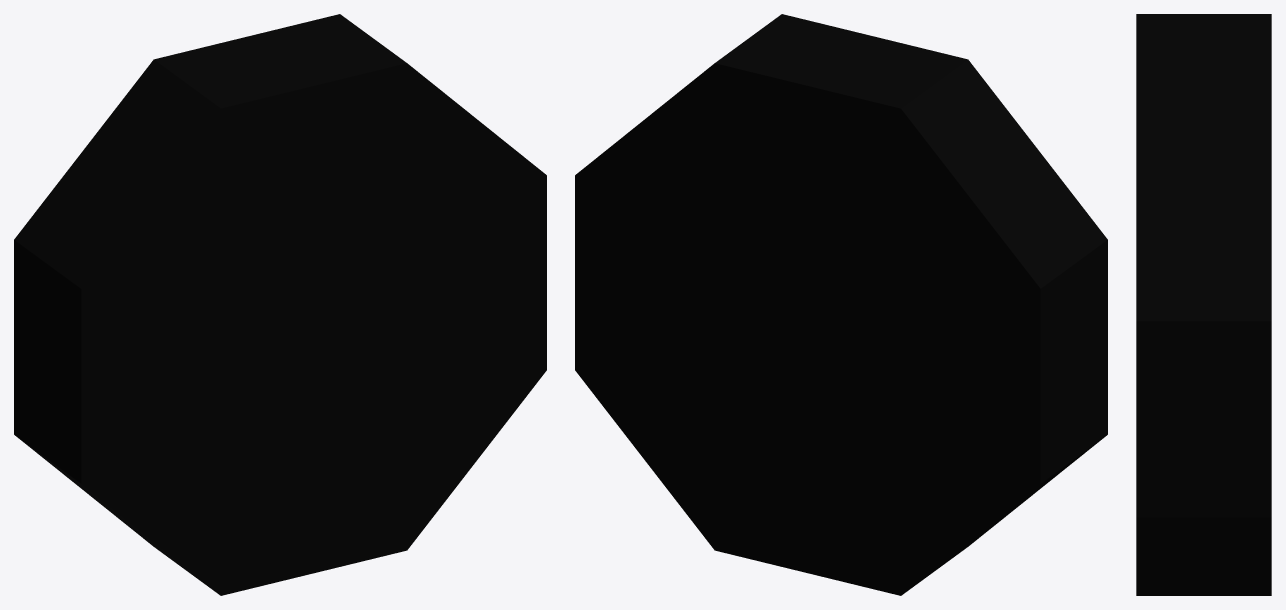
The model's file is StopSign2x2.fbx.
3 renders of one model, left to right at view 1: azimuth 30°, elevation 25°; view 2: azimuth 150°, elevation 25°; view 3: azimuth 270°, elevation 25°, orthographic.
Parts seen in each view (by area): view 1: стоп_сигн; view 2: стоп_сигн; view 3: стоп_сигн.
Part boxes in pixels (box(x1,y1,x2,y2)): стоп_сигн: box(14, 14, 546, 595); стоп_сигн: box(575, 14, 1107, 595); стоп_сигн: box(1136, 14, 1271, 595).
Size of the model in its own units: 2 by 2 by 0.5.
